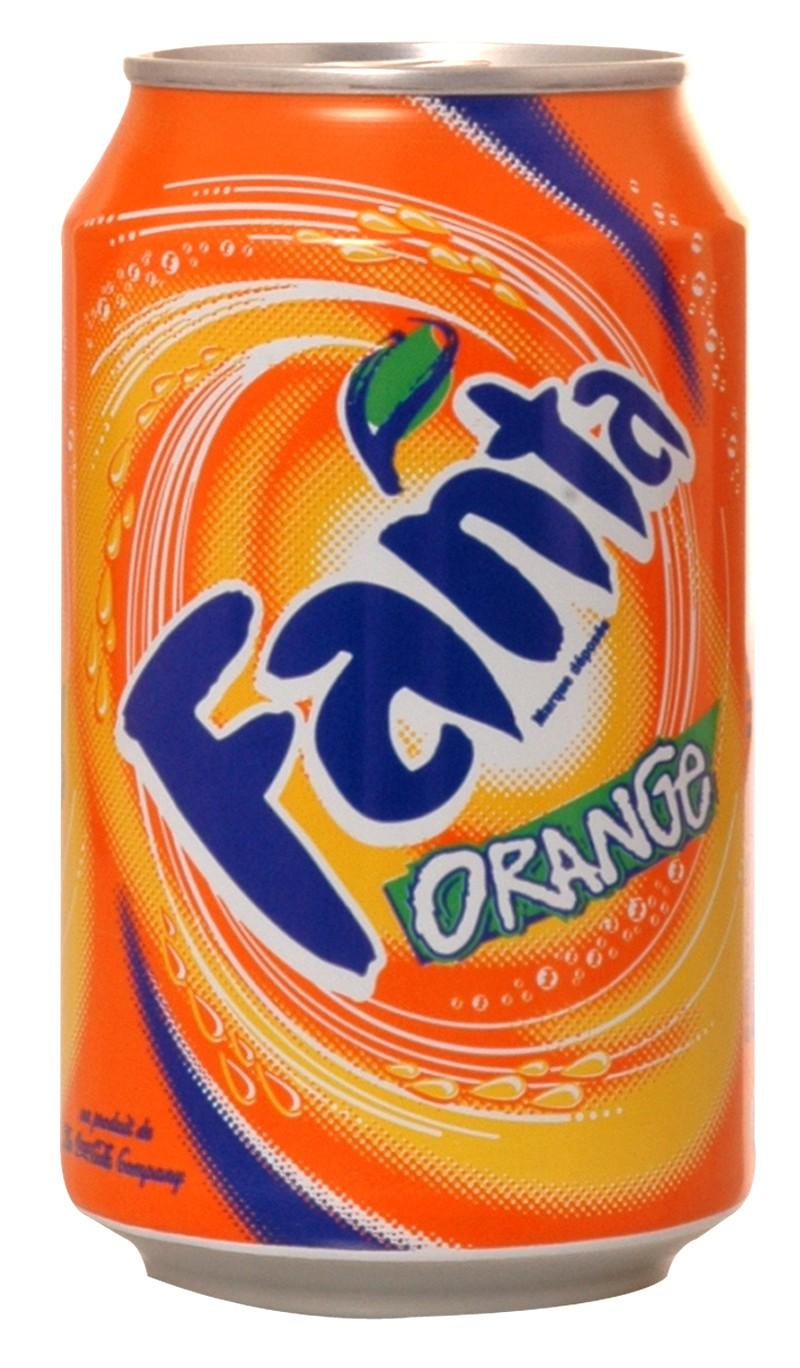metal: (61, 42, 752, 1318)
